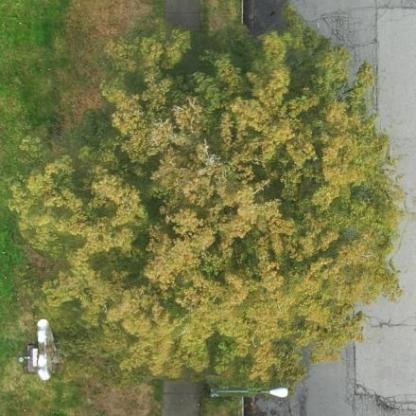Deciduous Tree: (22, 14, 404, 388)
